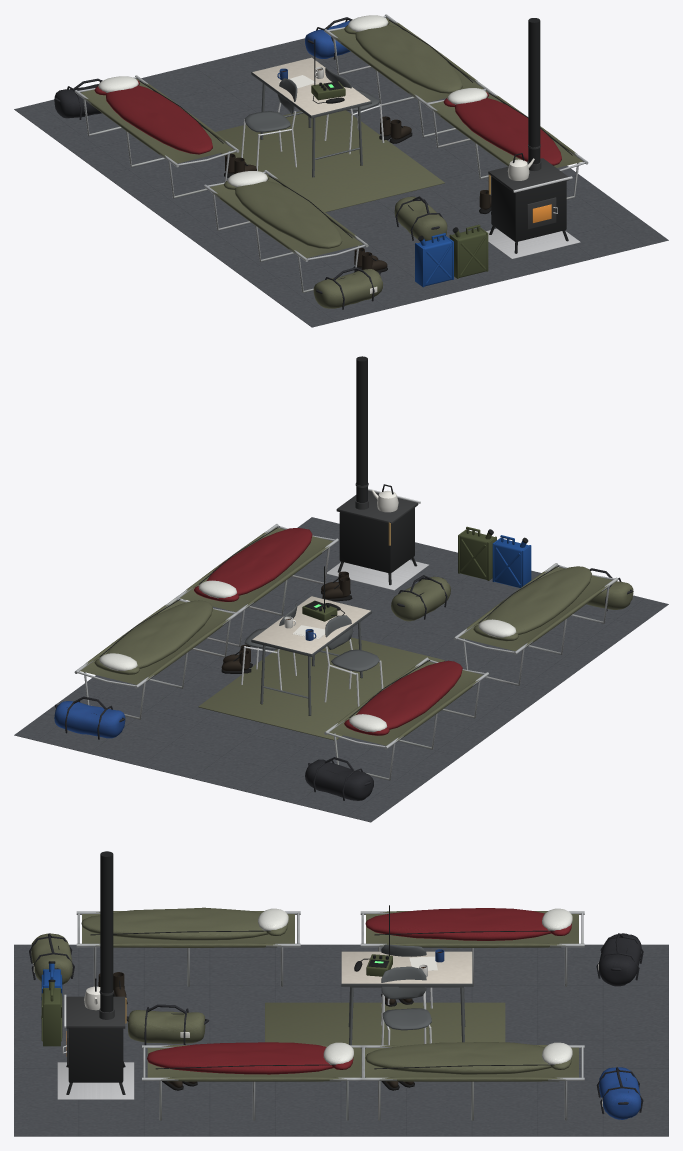
The model's file is polarhaven-fitout.glb.
3 views of the same model, one above another, from view 1: azimuth 30°, elevation 25°; view 2: azimuth 150°, elevation 25°; view 3: azimuth 270°, elevation 25° (orthographic). The views are drawn at different scales.
Visible parts, largest first — view 1: POLARHAVEN_fitout; view 2: POLARHAVEN_fitout; view 3: POLARHAVEN_fitout.
Part boxes in pixels (bbox=[...]): POLARHAVEN_fitout: bbox=[14, 14, 668, 327]; POLARHAVEN_fitout: bbox=[14, 356, 668, 822]; POLARHAVEN_fitout: bbox=[14, 851, 668, 1136].
Size of the model in its own units: 4.15 by 2.36 by 5.99.
27 materials, 9 textured.
